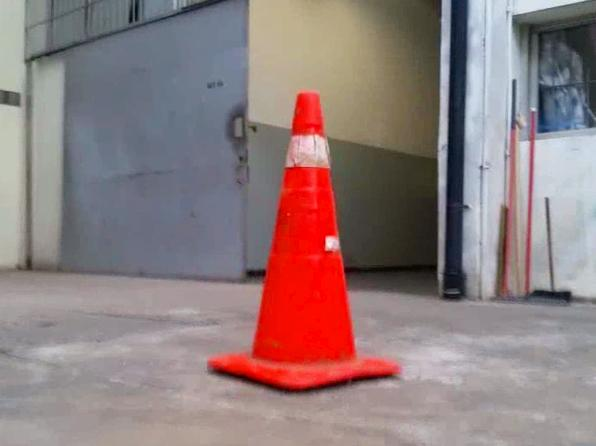0 cone: (206, 91, 396, 388)
